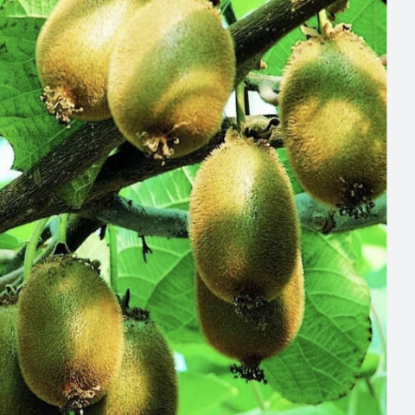kiwi: (263, 29, 415, 234), (171, 125, 315, 313), (105, 0, 263, 158), (3, 253, 133, 406)
